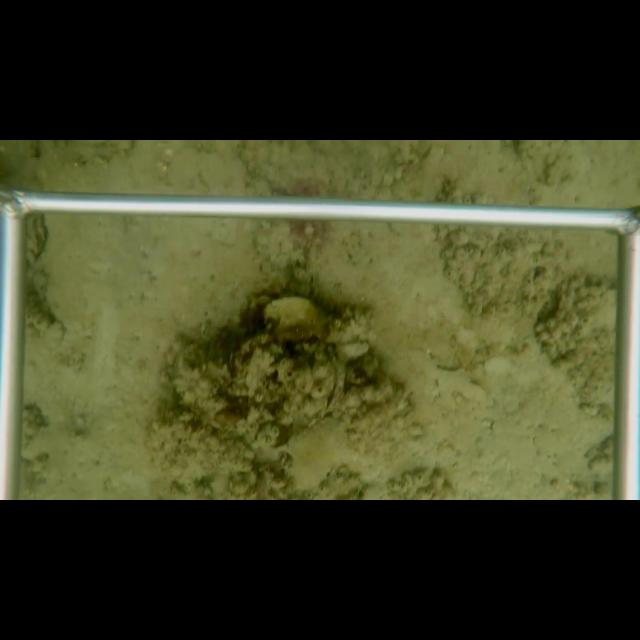Oyster-Closed: (166, 147, 275, 194), (261, 295, 332, 338)
